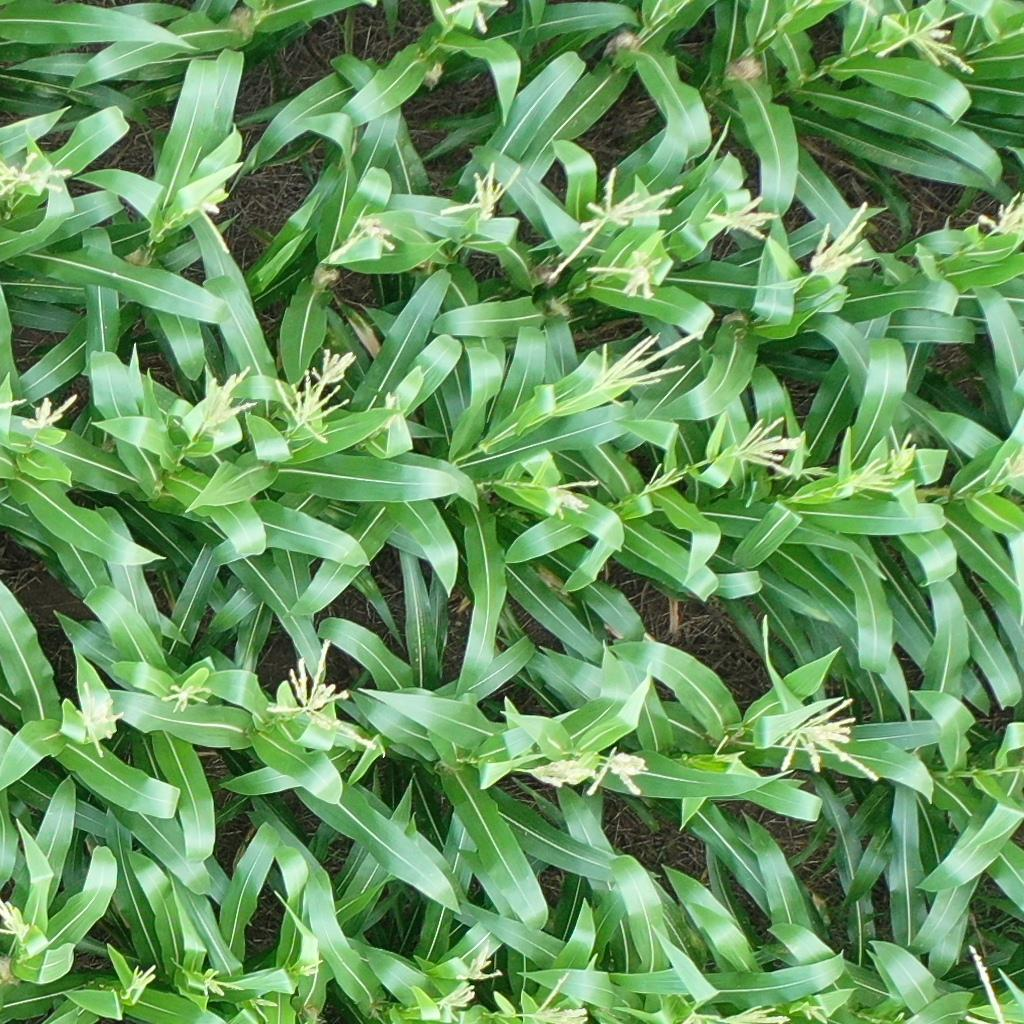Tassel: (550, 162, 685, 274), (265, 635, 376, 754), (768, 695, 883, 788), (591, 325, 698, 410), (874, 3, 980, 82), (438, 155, 523, 229), (273, 371, 349, 444), (805, 201, 869, 286), (728, 413, 807, 477), (173, 190, 241, 263), (322, 211, 401, 268), (196, 364, 258, 433), (1, 388, 79, 441), (77, 681, 127, 755), (590, 746, 650, 805), (589, 253, 661, 302), (1, 152, 77, 198), (834, 454, 900, 503), (706, 195, 779, 238), (531, 971, 589, 1024), (519, 754, 596, 793), (969, 189, 1024, 243), (540, 472, 599, 519), (443, 1, 513, 32), (459, 936, 504, 981), (159, 679, 211, 717), (308, 346, 356, 385), (642, 460, 690, 499), (196, 968, 243, 1000), (1, 900, 31, 946), (891, 425, 916, 479), (434, 982, 476, 1010), (723, 1005, 781, 1024), (714, 733, 745, 768), (997, 448, 1024, 486), (127, 965, 160, 996), (799, 461, 839, 481), (794, 1000, 829, 1016), (251, 995, 278, 1013), (295, 958, 323, 975)
